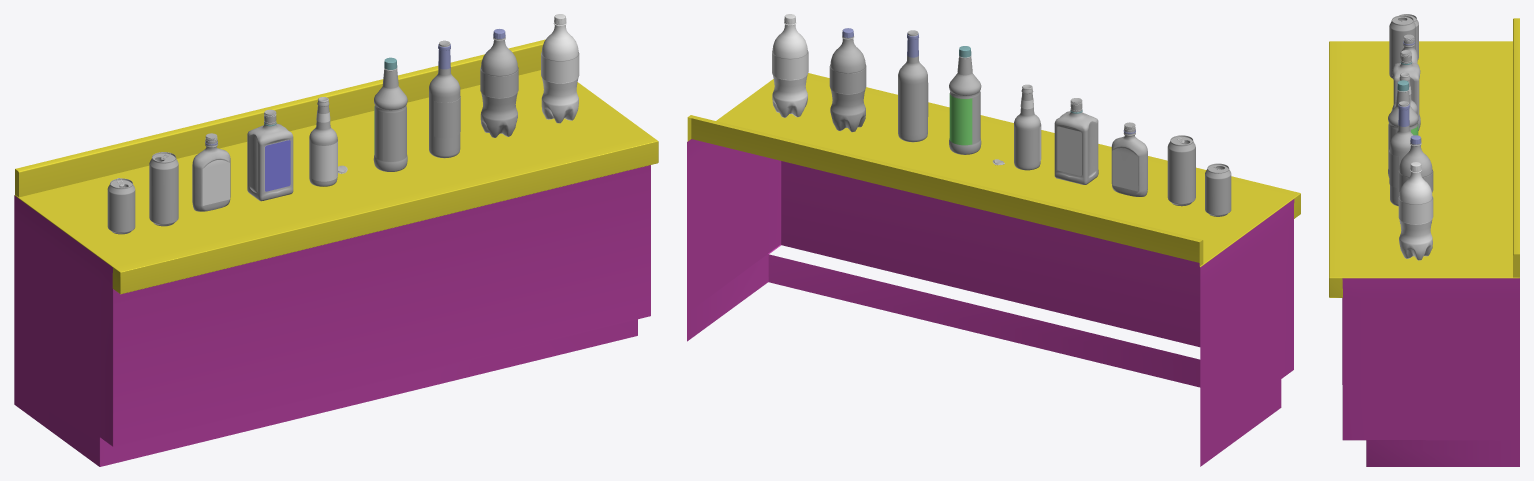
The model's file is party_bottles.fbx.
3 renders of one model, left to right at view 1: azimuth 30°, elevation 25°; view 2: azimuth 150°, elevation 25°; view 3: azimuth 270°, elevation 25°, orthographic. The views are drawn at different scales.
Parts seen in each view (by area): view 1: cupboardsBase, spriteBottle_2L, cokeBottle_2L, jagerBottle, beerCan_tall, wineBottle, rumBottle.001, beerCan, schnappsBottle, jagerBottle_label_front01, rumBottle_label_body, schnappsBottle_label_front (+5 smaller); view 2: cupboardsBase, wineBottle, cokeBottle_2L, spriteBottle_2L, jagerBottle, beerCan_tall, beerBottle, rumBottle.001, beerCan, schnappsBottle, rumBottle_label_body_rear, jagerBottle_label_back (+3 smaller); view 3: cupboardsBase, spriteBottle_2L, wineBottle, beerCan_tall, jagerBottle, cokeBottle_2L, spriteBottle_label, rumBottle.001, wineBottle_label, schnappsBottle, cokeBottle_label.
Boxes of the visible parts, <box> form: cupboardsBase: <box>14,39,658,466</box>; spriteBottle_2L: <box>541,14,578,123</box>; cokeBottle_2L: <box>480,29,517,137</box>; jagerBottle: <box>247,109,293,201</box>; beerCan_tall: <box>149,152,178,226</box>; wineBottle: <box>429,40,460,158</box>; rumBottle.001: <box>373,57,407,171</box>; beerCan: <box>107,178,135,234</box>; schnappsBottle: <box>192,133,230,211</box>; jagerBottle_label_front01: <box>265,140,290,191</box>; rumBottle_label_body: <box>383,107,406,161</box>; schnappsBottle_label_front: <box>203,160,229,205</box>; cupboardsBase: <box>687,73,1300,466</box>; wineBottle: <box>898,30,927,142</box>; cokeBottle_2L: <box>830,28,865,132</box>; spriteBottle_2L: <box>772,14,807,117</box>; jagerBottle: <box>1054,98,1098,184</box>; beerCan_tall: <box>1167,135,1195,206</box>; beerBottle: <box>1014,84,1040,170</box>; rumBottle.001: <box>949,46,981,154</box>; beerCan: <box>1205,163,1231,216</box>; schnappsBottle: <box>1111,122,1147,196</box>; rumBottle_label_body_rear: <box>949,93,972,145</box>; jagerBottle_label_back: <box>1057,127,1081,175</box>; cupboardsBase: <box>1329,18,1519,466</box>; spriteBottle_2L: <box>1399,162,1432,260</box>; wineBottle: <box>1390,101,1413,206</box>; beerCan_tall: <box>1389,15,1415,78</box>; jagerBottle: <box>1392,50,1420,130</box>; cokeBottle_2L: <box>1399,135,1432,223</box>; spriteBottle_label: <box>1398,196,1433,224</box>; rumBottle.001: <box>1388,80,1418,177</box>; wineBottle_label: <box>1389,149,1399,188</box>; schnappsBottle: <box>1400,34,1417,63</box>; cokeBottle_label: <box>1398,169,1433,192</box>.
Size of the model in its own units: 280 by 159 by 95.4.
